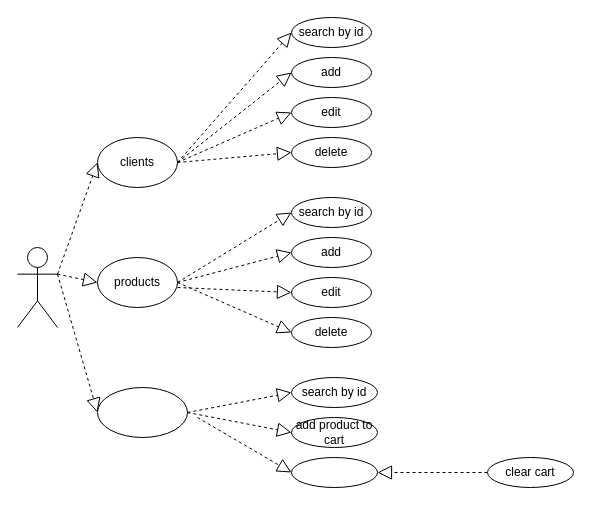
The diagram is 591 pixels wide and 505 high, and some of its shapes have lost their labels. Each missing label, with the box of its shape:
Actor: (16, 246, 58, 328)
orders: (96, 386, 188, 438)
place final order: (290, 456, 378, 488)
